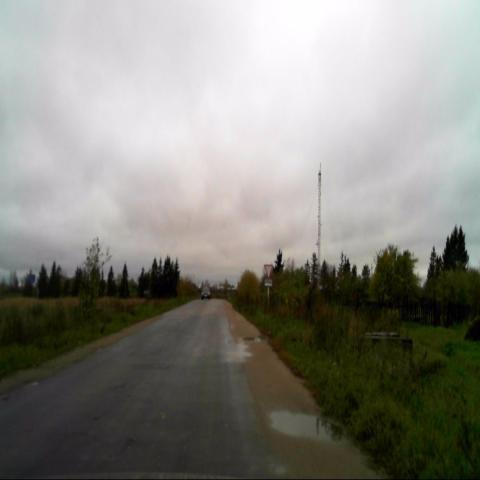2_4: (264, 263, 273, 278)
